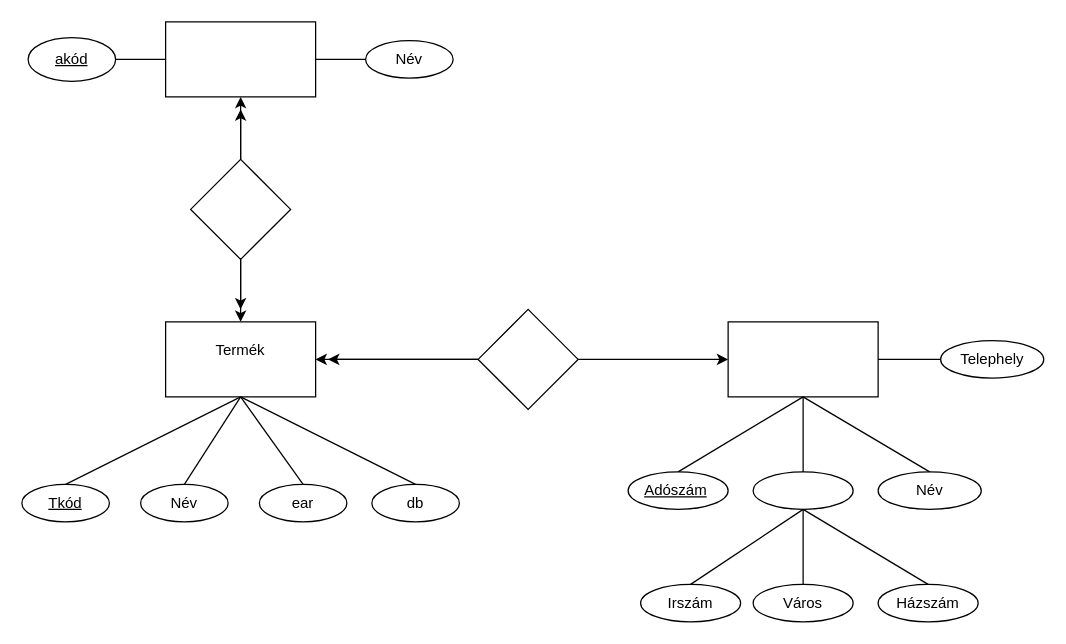
The diagram is 1066 pixels wide and 644 high, and some of its shapes have lost their labels. The shapes that lost their labels are listed below. From the top down, each one's centre as x and y in pixels, then its label:
At point (240, 59): "Alkatrész".
At point (240, 208): "T-A".
At point (527, 358): "T-GY".
At point (802, 359): "Gyártó".
At point (802, 490): "Postacím".
